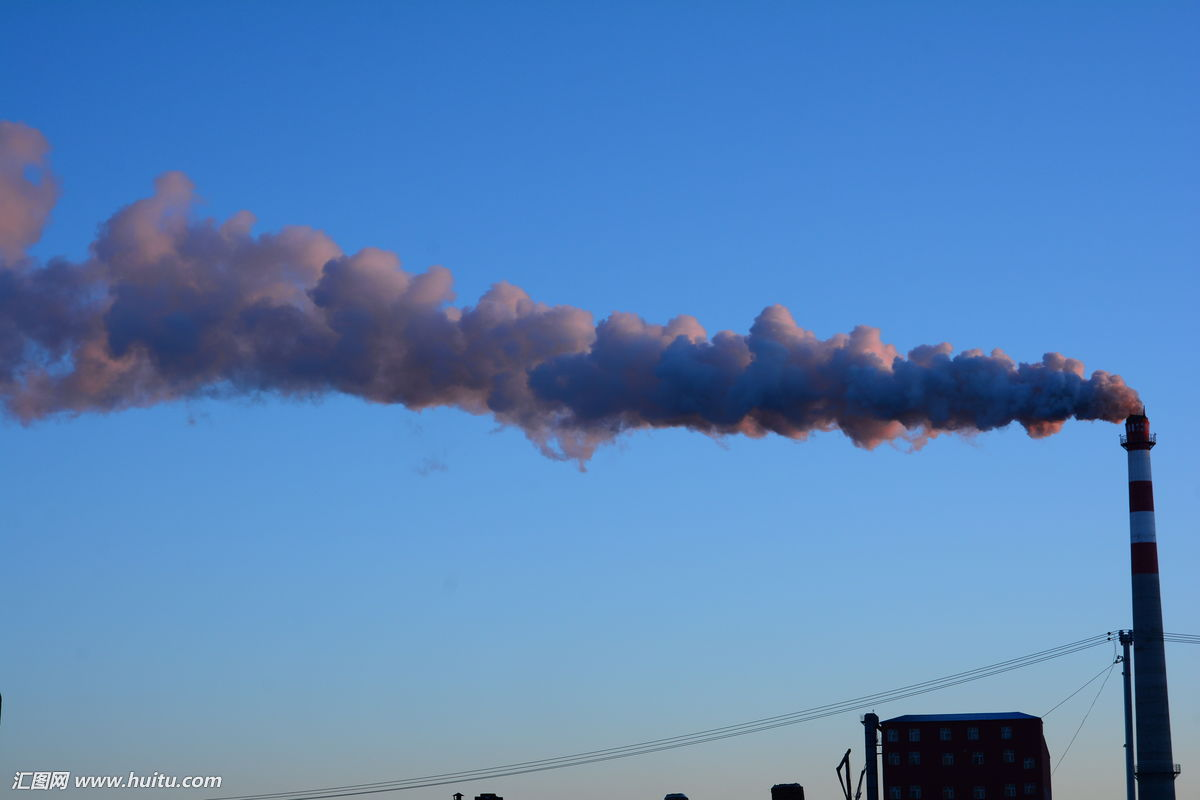dust: (690, 291, 1163, 452)
